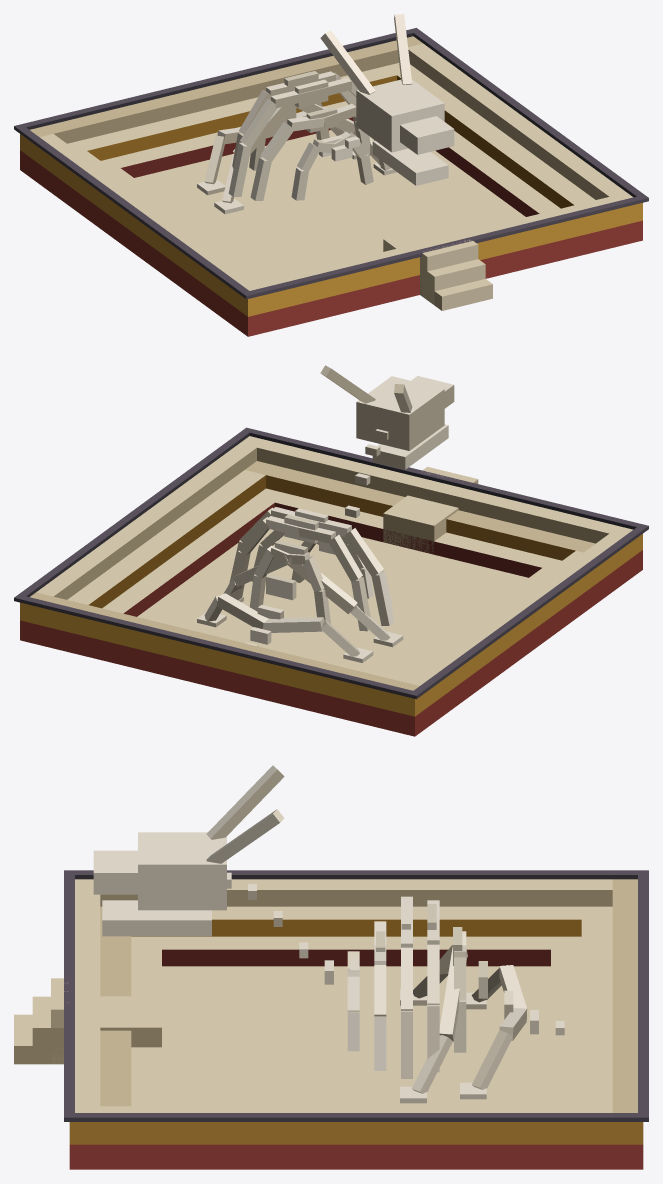
Rendered from landmark-far.glb.
The picture shows the model from 3 angles, top to bottom: view 1: azimuth 30°, elevation 25°; view 2: azimuth 150°, elevation 25°; view 3: azimuth 270°, elevation 25°; orthographic projection. The views are drawn at different scales.
Parts seen in each view (by area): view 1: skeleton-far; view 2: skeleton-far; view 3: skeleton-far.
Boxes of the visible parts, x1,y1,x2,y2 form: skeleton-far: [14, 14, 648, 336]; skeleton-far: [14, 365, 648, 736]; skeleton-far: [14, 765, 648, 1169].
Size of the model in its own units: 63.2 by 30.89 by 68.6.
1 material, 1 textured.
